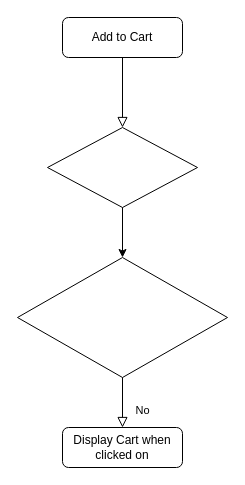
This 245x485 diagram has some shape labels left out. Each missing label, with the centre of its shape:
Add beatID to Cart's product array: the point at 122,167
Fetch beat info from Database: the point at 122,317
